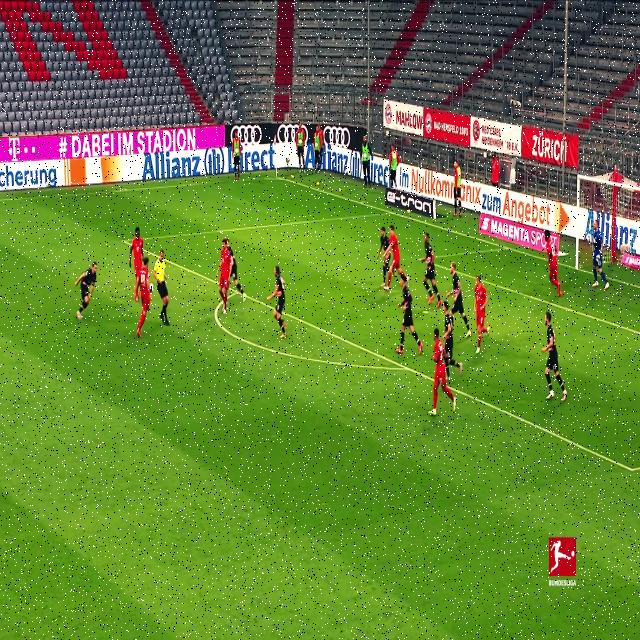Ball: (149, 280, 157, 300)
GoalKeeper: (592, 218, 608, 290)
TEAM 1: (426, 331, 455, 425), (471, 266, 494, 356), (131, 250, 154, 339), (213, 231, 233, 319), (542, 226, 564, 295), (384, 222, 406, 288), (128, 227, 147, 275)
TEAM 2: (540, 309, 572, 405), (393, 274, 422, 358), (448, 256, 474, 337), (441, 303, 466, 386), (74, 255, 102, 324), (416, 230, 441, 303), (268, 260, 290, 342), (224, 239, 247, 300), (374, 226, 390, 286)
